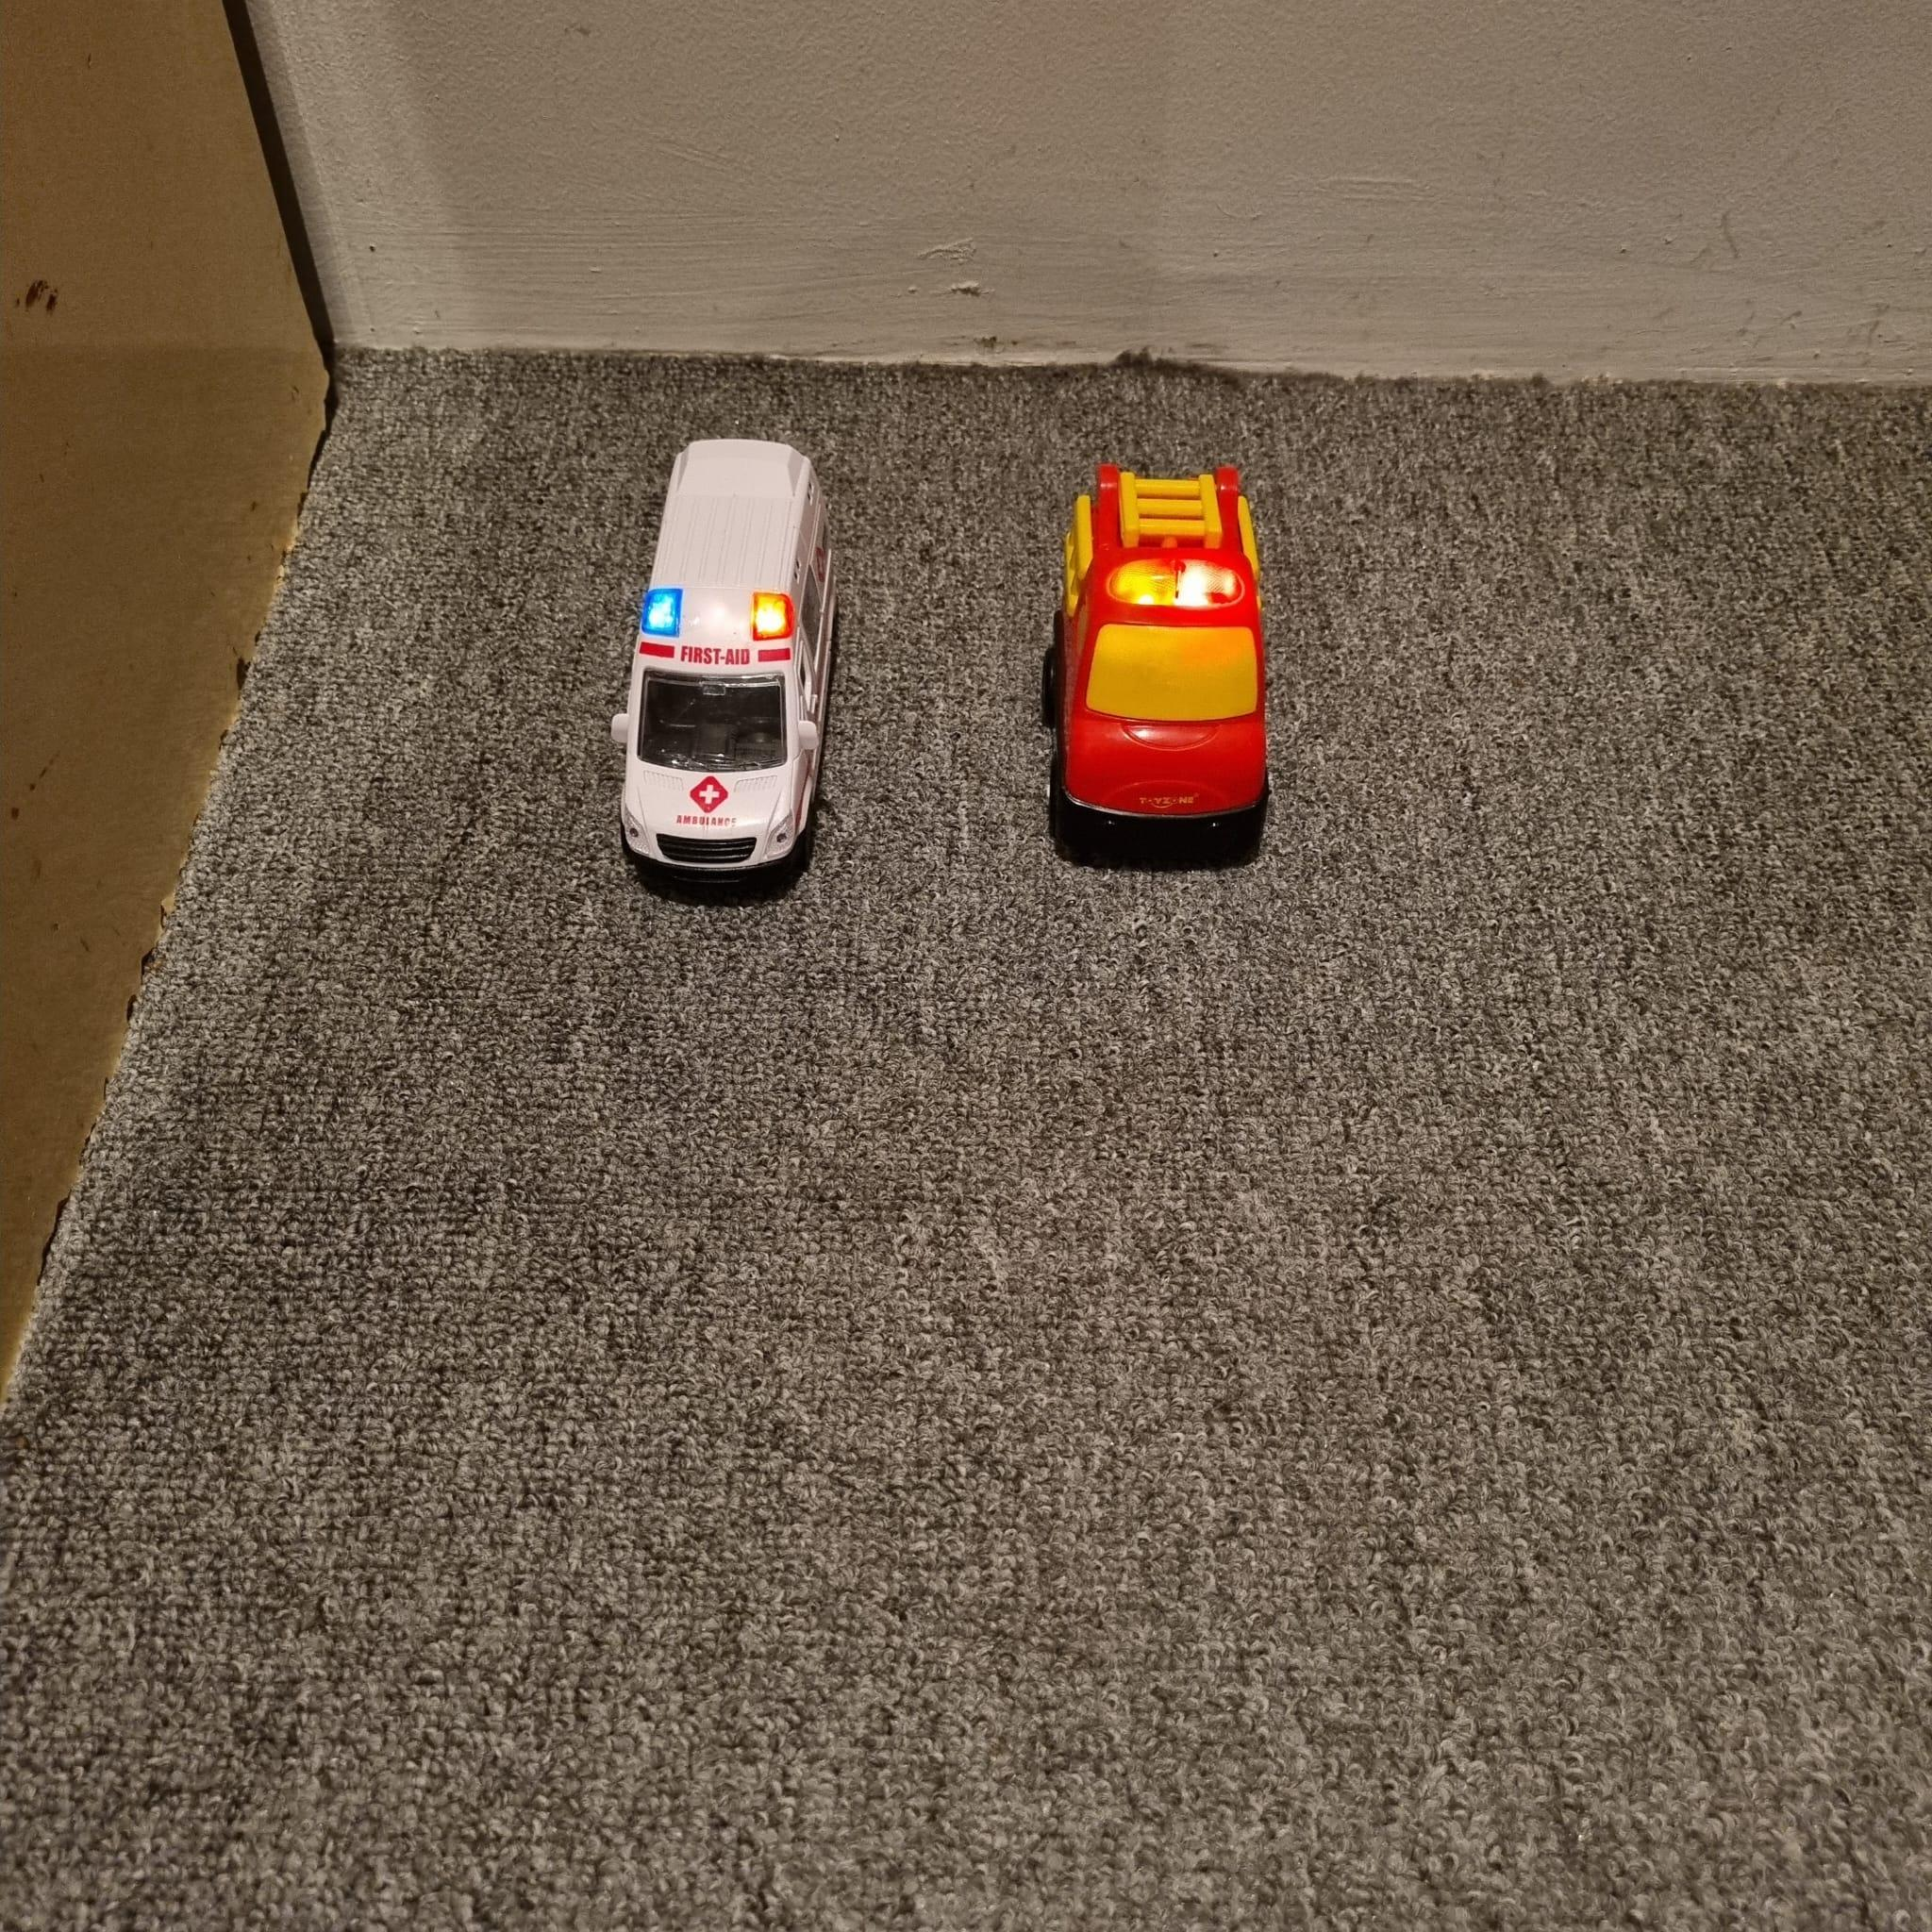ambulance_on: (611, 438, 839, 886)
firetruck_on: (1042, 466, 1270, 866)
